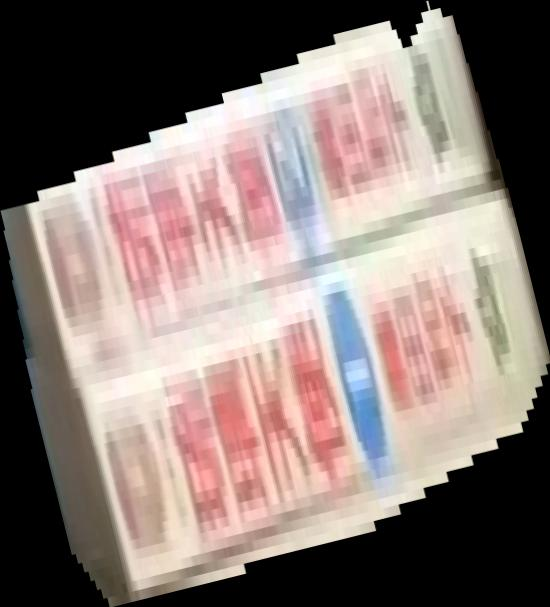flat: (1, 1, 550, 607)
